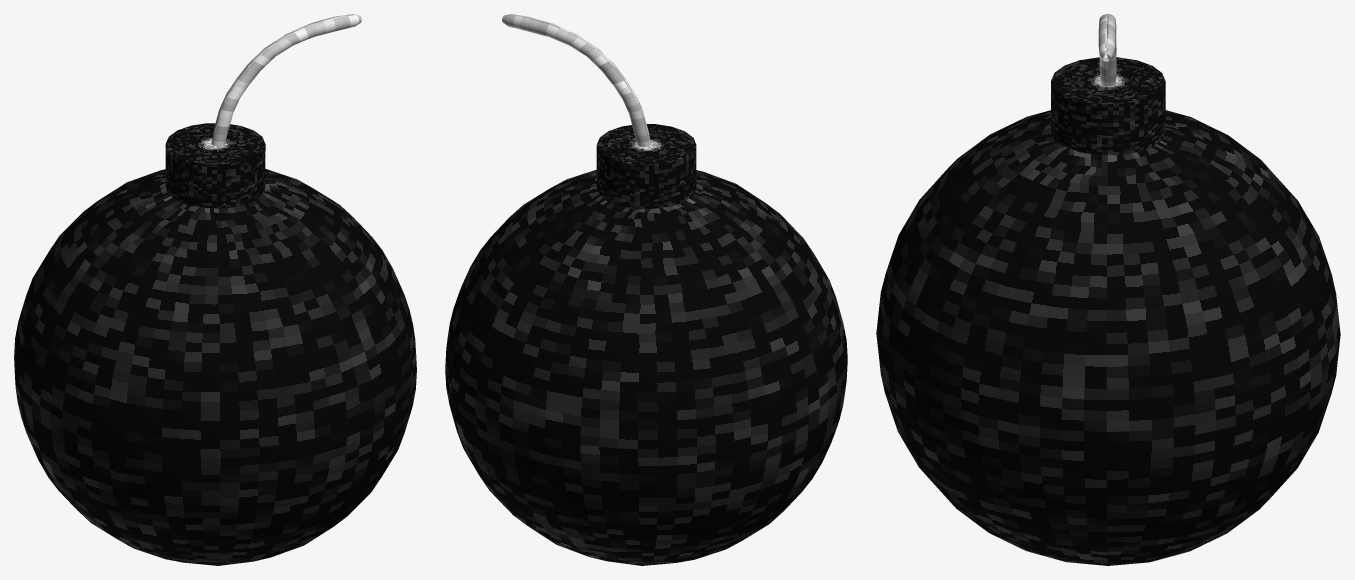
Rendered from fuse_bomb.glb.
3 renders of one model, left to right at view 1: azimuth 30°, elevation 25°; view 2: azimuth 150°, elevation 25°; view 3: azimuth 270°, elevation 25°, orthographic. The views are drawn at different scales.
Visible parts, largest first — view 1: Object_2; view 2: Object_2; view 3: Object_2.
Part boxes in pixels (box(x1,y1,x2,y2)): Object_2: box(14, 14, 416, 565); Object_2: box(445, 14, 847, 565); Object_2: box(876, 14, 1340, 565).
Size of the model in its own units: 1.96 by 2.69 by 1.96.
Materials: 1 (1 with a texture image).
